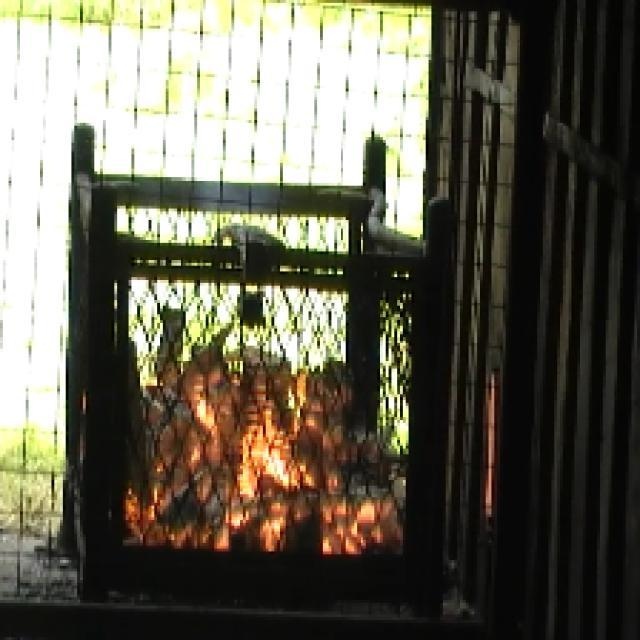Fire: (225, 411, 304, 496)
